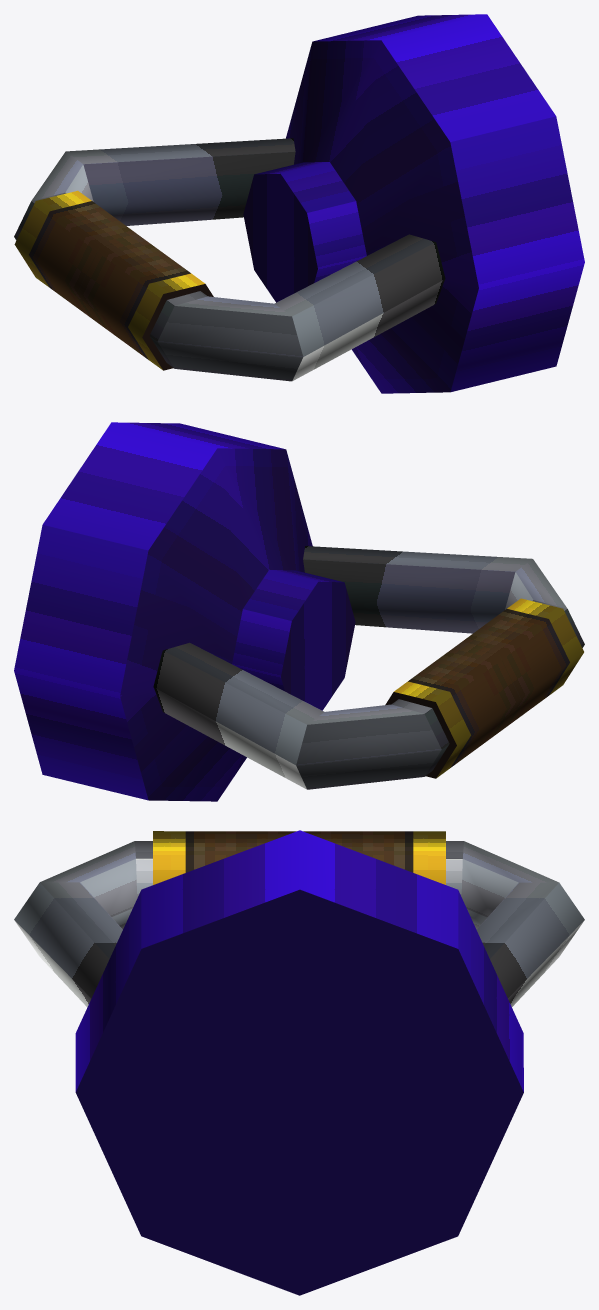
The model's file is HookshotHandle.obj.
3 views of the same model, one above another, from view 1: azimuth 30°, elevation 25°; view 2: azimuth 150°, elevation 25°; view 3: azimuth 270°, elevation 25° (orthographic). The views are drawn at different scales.
Bounding box in the file's own units: 0.2006 × 0.1655 × 0.2109.
Materials: 1 (1 with a texture image).
